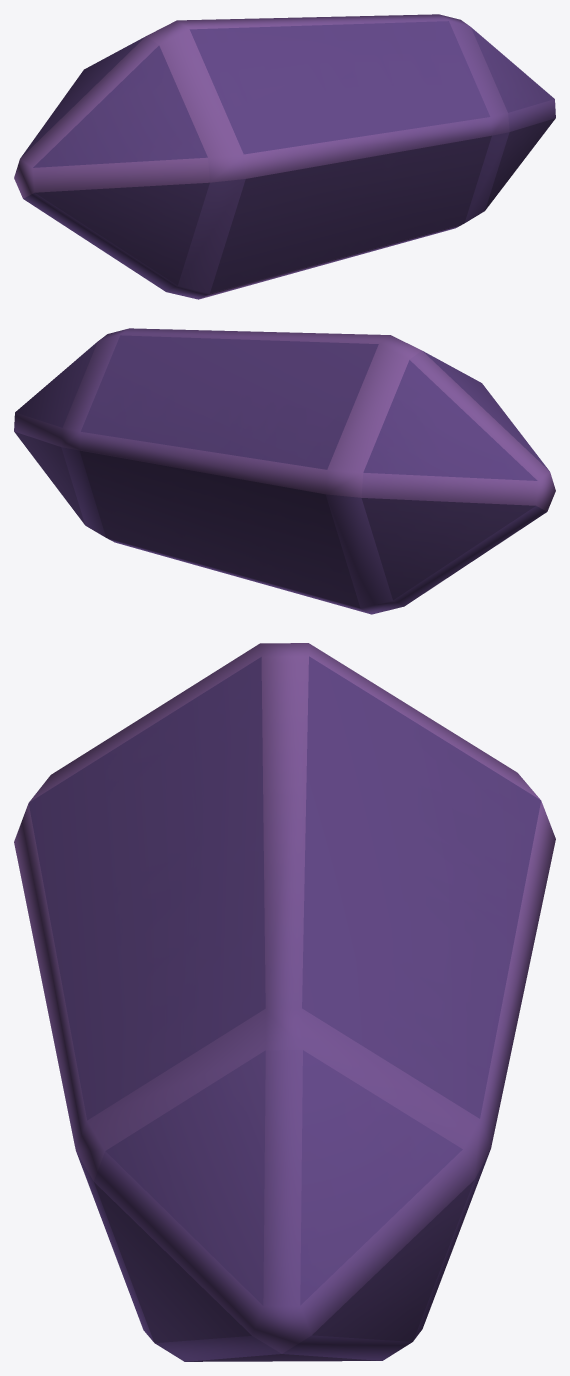
The model's file is christal_amethyst_6.fbx.
The picture shows the model from 3 angles, top to bottom: view 1: azimuth 30°, elevation 25°; view 2: azimuth 150°, elevation 25°; view 3: azimuth 270°, elevation 25°; orthographic projection. The views are drawn at different scales.
Visible parts, largest first — view 1: christal_amethyst_6; view 2: christal_amethyst_6; view 3: christal_amethyst_6.
Boxes of the visible parts, x1,y1,x2,y2 form: christal_amethyst_6: (14,14,555,299); christal_amethyst_6: (14,328,555,614); christal_amethyst_6: (14,643,555,1361).
Size of the model in its own units: 67.5 by 29.59 by 31.25.
1 material, 1 textured.
